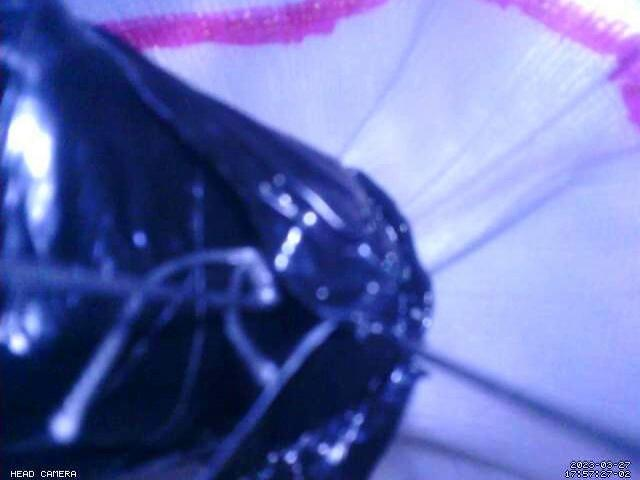red-circle: (96, 0, 640, 132)
